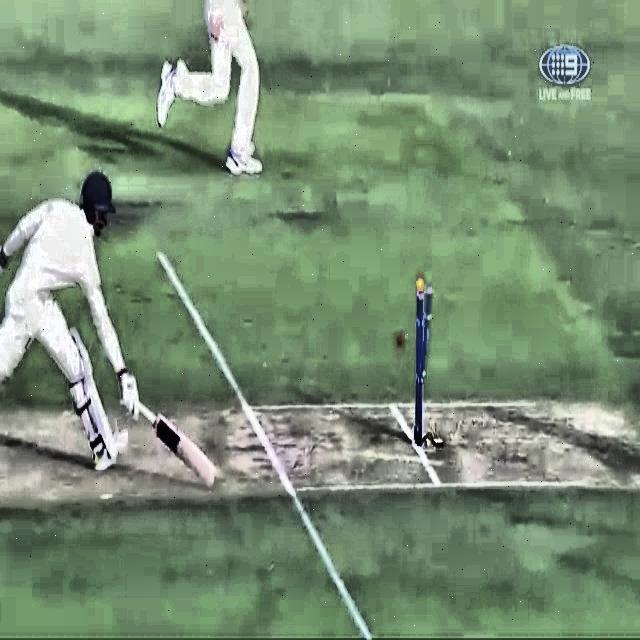Ball: (387, 324, 412, 351)
Bat: (118, 384, 224, 490)
Dis_Wicket: (408, 270, 443, 448)
Pitch_Line: (155, 248, 371, 640)
